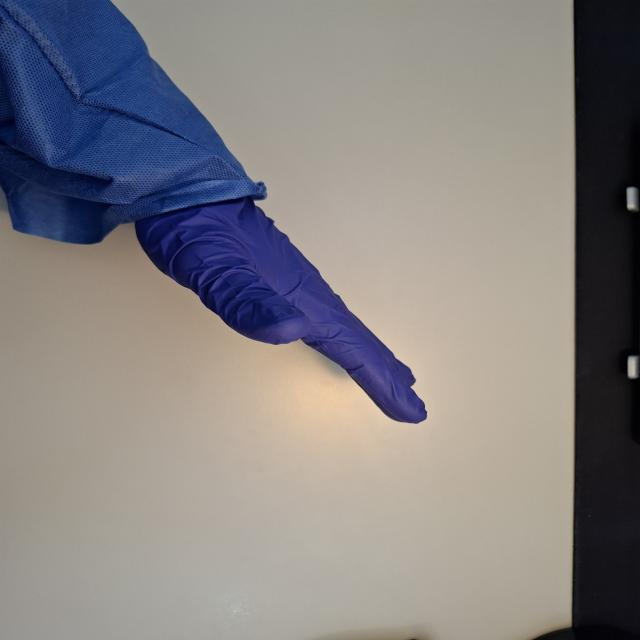glove_on: (130, 172, 430, 426)
